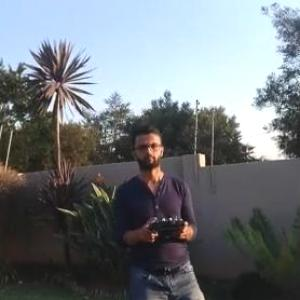follow: (111, 118, 213, 299)
